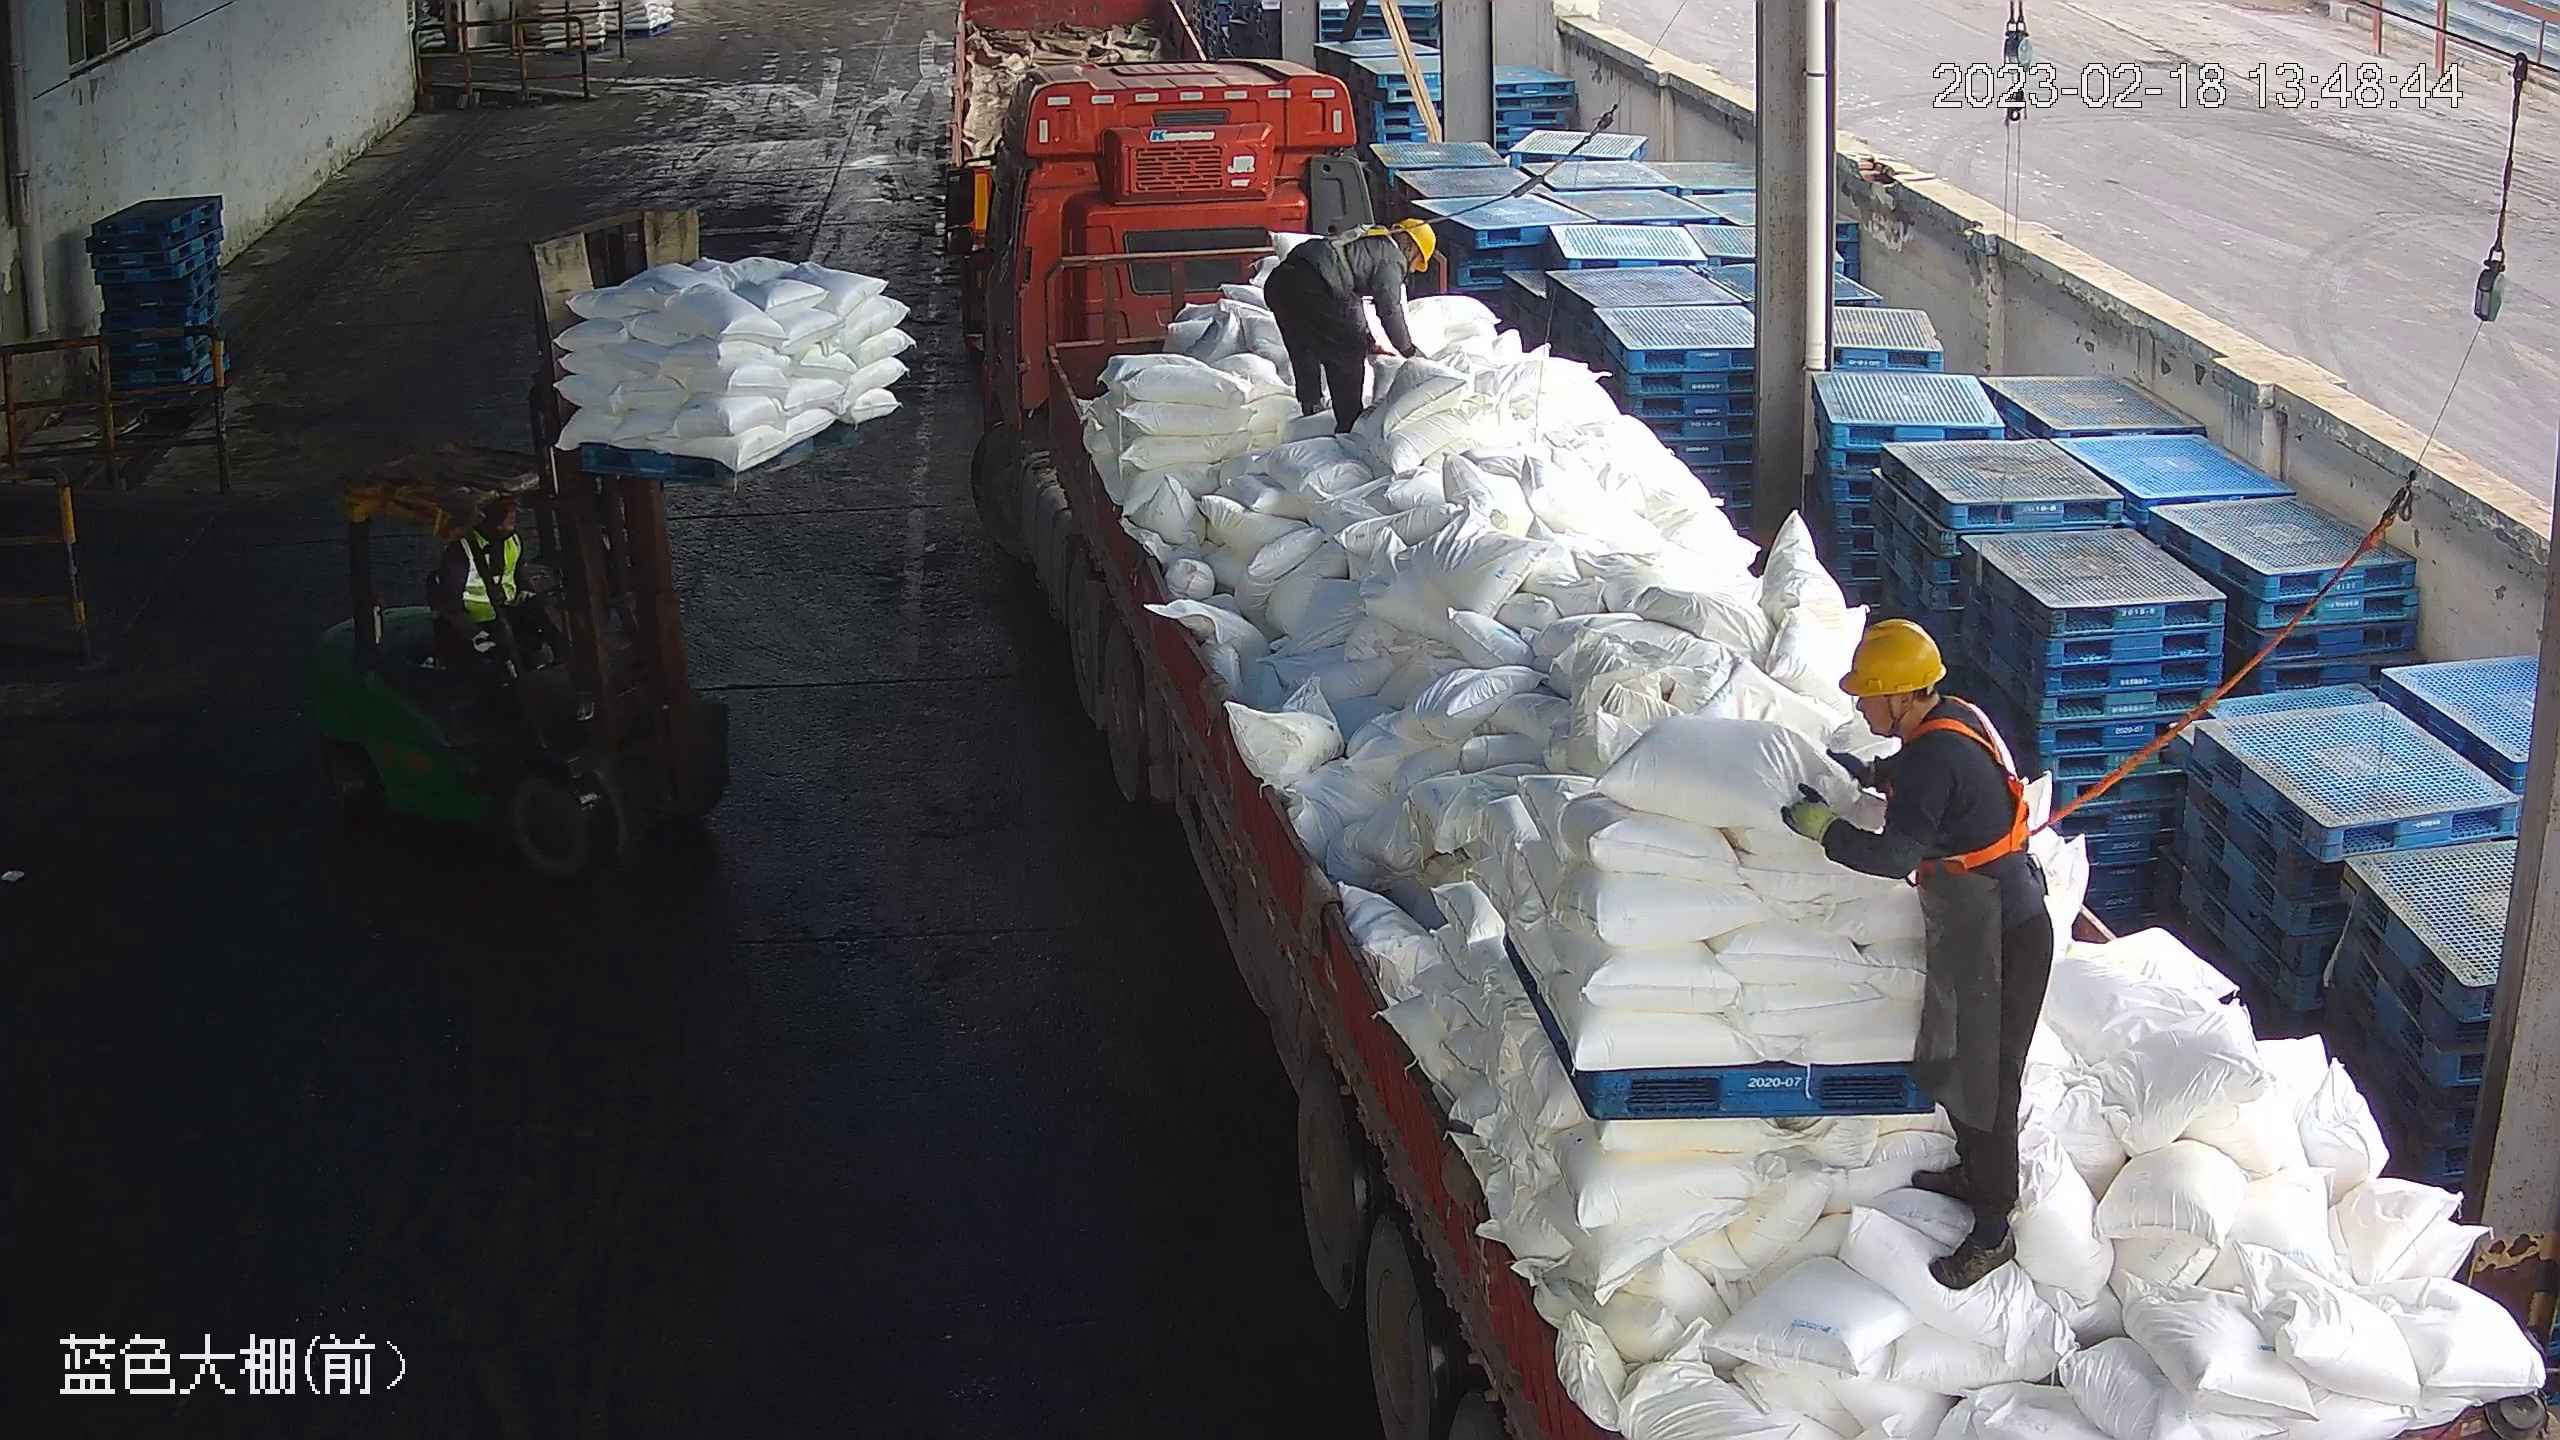belt: (1913, 691, 2067, 876), (1313, 213, 1389, 284)
head: (1830, 616, 2024, 826), (1335, 214, 1438, 296)
helmet: (1835, 615, 1947, 698), (1395, 215, 1436, 274)
people: (1785, 619, 2060, 1292), (1261, 215, 1439, 436)
truck: (951, 43, 2560, 1440)
